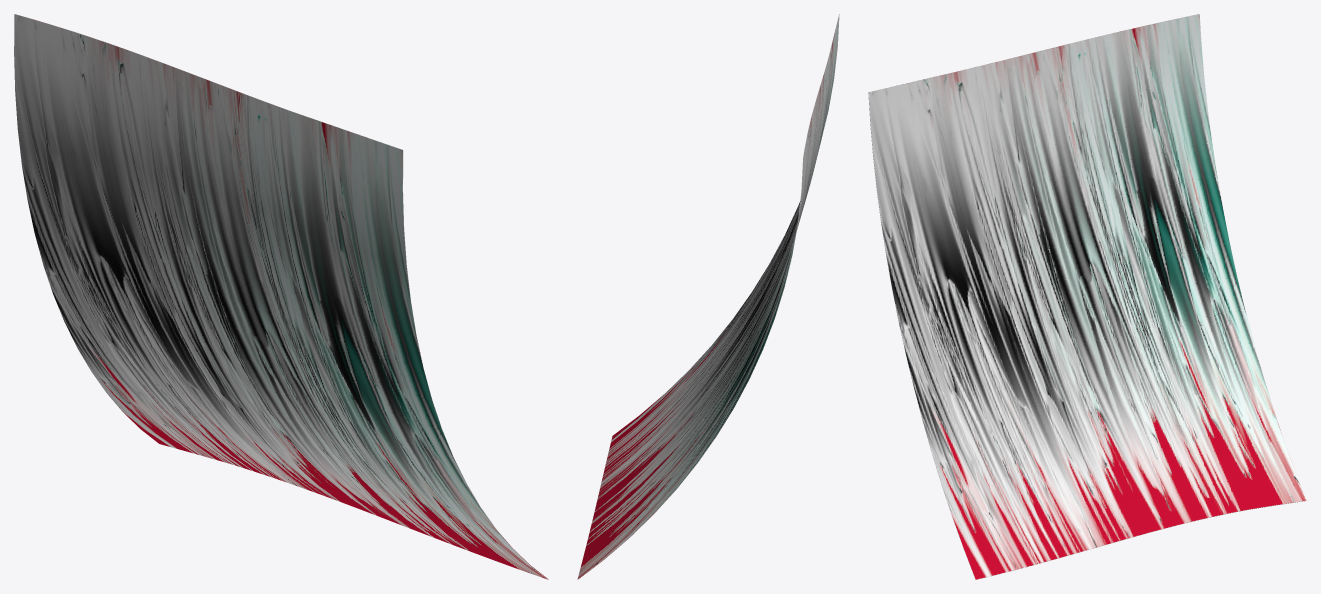
The model's file is untitled-flag.glb.
3 renders of one model, left to right at view 1: azimuth 30°, elevation 25°; view 2: azimuth 150°, elevation 25°; view 3: azimuth 270°, elevation 25°, orthographic. The views are drawn at different scales.
Visible parts, largest first — view 1: Cube.1 (Copy); view 2: Cube.1 (Copy); view 3: Cube.1 (Copy).
Part boxes in pixels (x1=…): Cube.1 (Copy): x1=14, y1=14, x2=548, y2=579; Cube.1 (Copy): x1=577, y1=14, x2=839, y2=579; Cube.1 (Copy): x1=868, y1=14, x2=1306, y2=579.
Bounding box in the file's own units: 279 × 380 × 357.
1 material, 1 textured.
